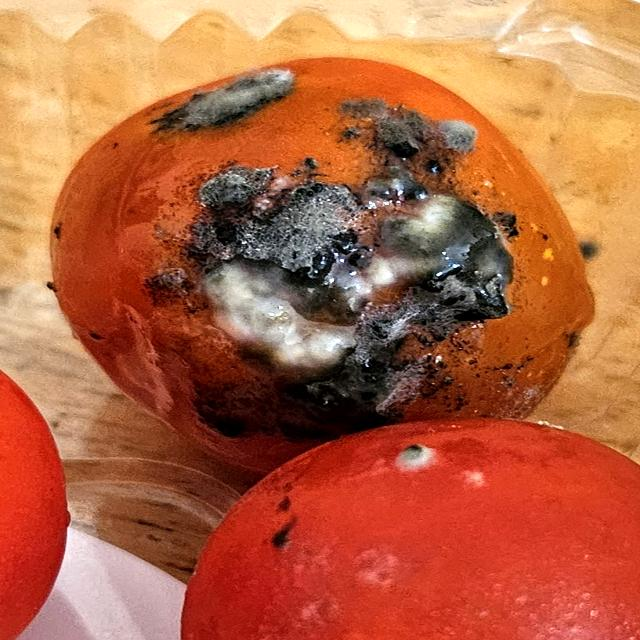rot_lvl2: (200, 165, 375, 366), (382, 190, 522, 330), (205, 374, 412, 445), (150, 61, 306, 141), (338, 90, 482, 175), (392, 439, 446, 474), (261, 519, 301, 555), (265, 490, 302, 514)
